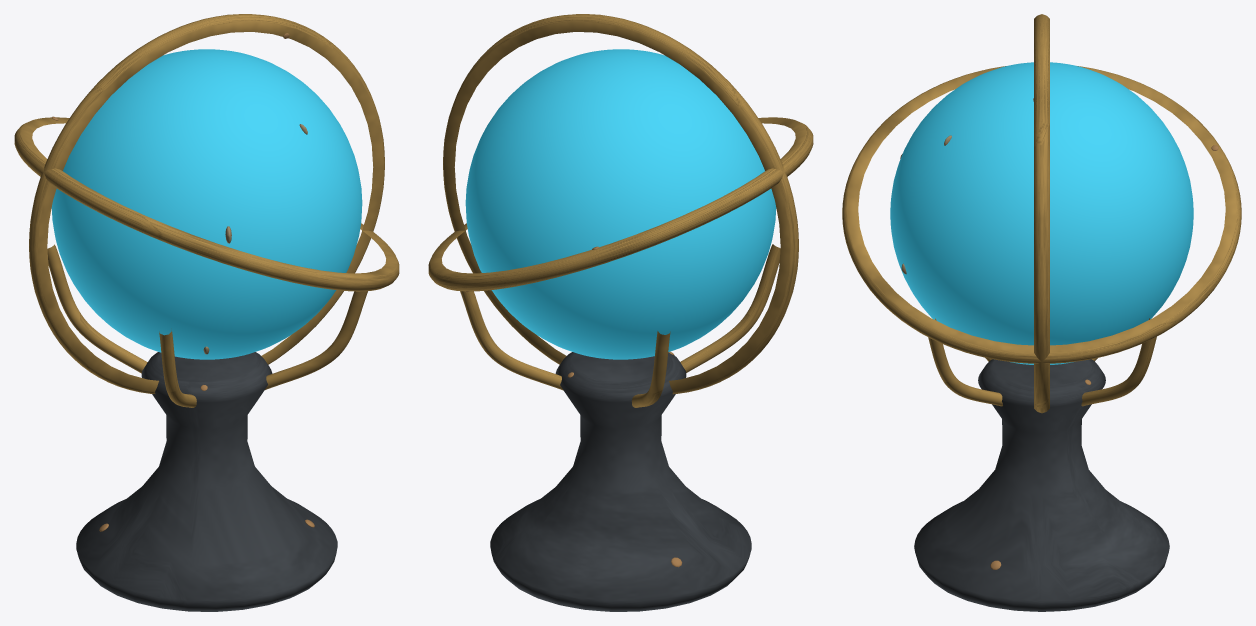
Rendered from relic-orb.glb.
3 renders of one model, left to right at view 1: azimuth 30°, elevation 25°; view 2: azimuth 150°, elevation 25°; view 3: azimuth 270°, elevation 25°, orthographic. The views are drawn at different scales.
Parts seen in each view (by area): view 1: crystal / faceted crystal, darksteel / oil-blackened fittings, brass / polished brass furniture; view 2: crystal / faceted crystal, darksteel / oil-blackened fittings, brass / polished brass furniture; view 3: crystal / faceted crystal, darksteel / oil-blackened fittings, brass / polished brass furniture.
Part boxes in pixels (x1=…): crystal / faceted crystal: x1=51, y1=49, x2=362, y2=359; darksteel / oil-blackened fittings: x1=76, y1=352, x2=337, y2=611; brass / polished brass furniture: x1=14, y1=14, x2=399, y2=407; crystal / faceted crystal: x1=465, y1=49, x2=776, y2=359; darksteel / oil-blackened fittings: x1=490, y1=352, x2=751, y2=611; brass / polished brass furniture: x1=428, y1=14, x2=813, y2=407; crystal / faceted crystal: x1=890, y1=62, x2=1193, y2=364; darksteel / oil-blackened fittings: x1=914, y1=359, x2=1169, y2=611; brass / polished brass furniture: x1=842, y1=14, x2=1241, y2=413.
Bounding box in the file's own units: 0.25 × 0.3662 × 0.25.
6 materials, 2 textured.
